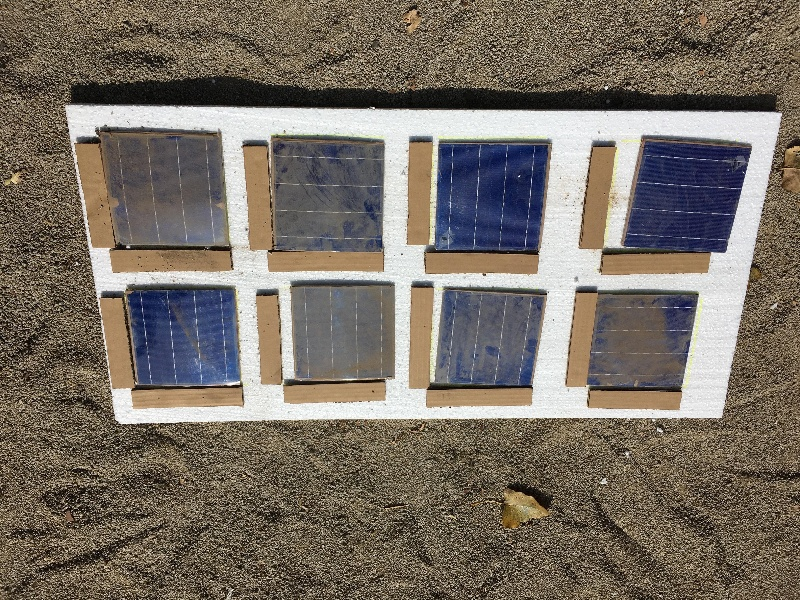clean: (622, 132, 739, 255), (439, 144, 545, 251), (126, 288, 236, 386)
dirty: (99, 133, 235, 254), (262, 135, 385, 255), (583, 297, 697, 389), (439, 289, 540, 391), (295, 286, 404, 380)
